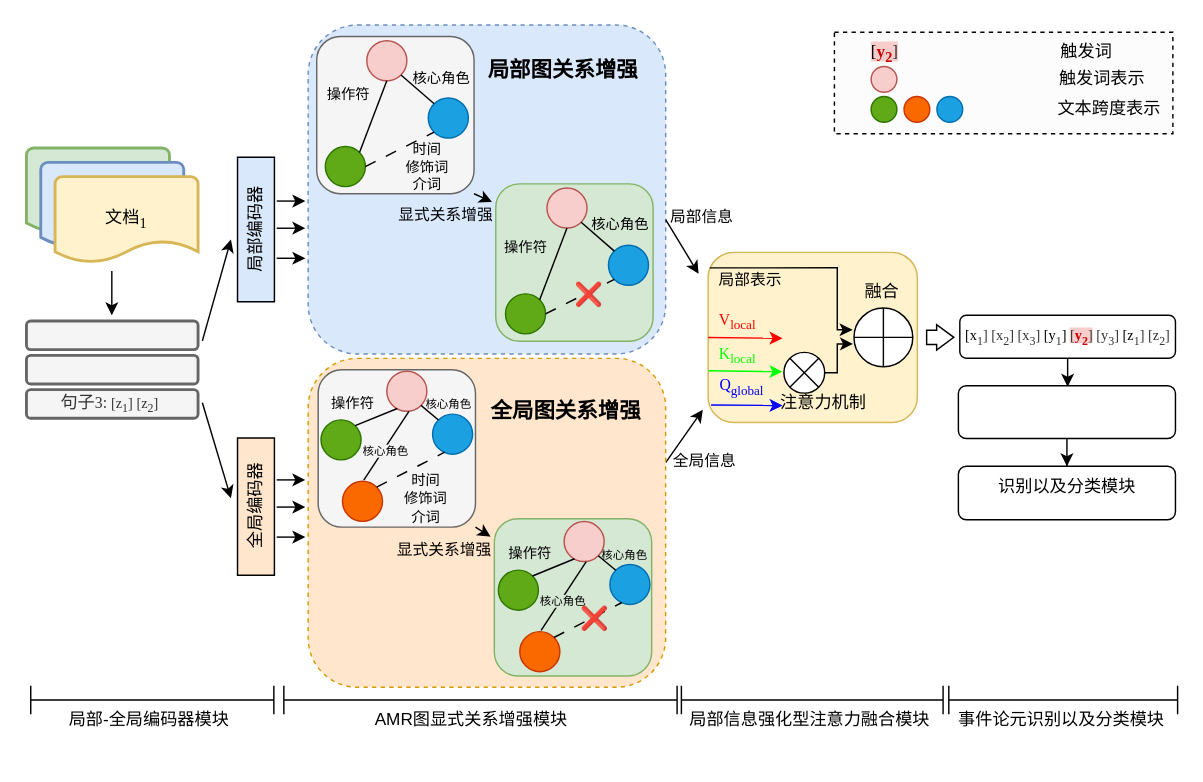
Some shapes in this 1203 by 782 pixel diagram are drawn without their labels. The shapes that lost their labels are listed below. From the top down, each one's centre as x and y in pixels, then its label:
At (x=111, y=334): "句子 1: [x 1 ] [x 2 ] [x 3 ]".
At (x=111, y=369): "句子 2: [y 1 ] [ y 2 ] [y 3 ]".
At (x=1066, y=411): "边界损失模块".
